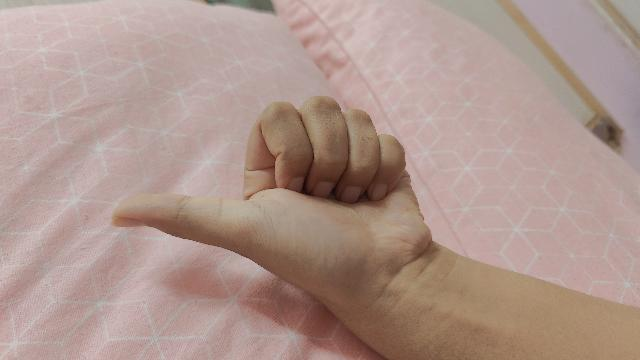shikhar: (112, 97, 640, 360)
